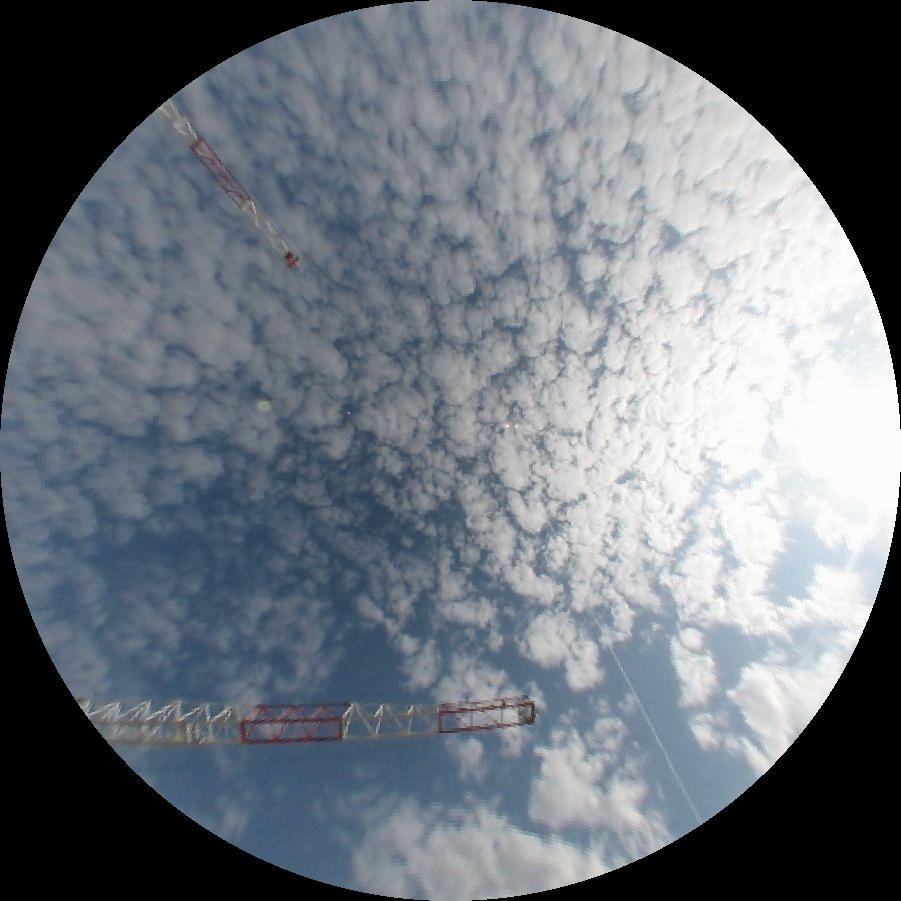contrail young: (586, 607, 705, 825)
